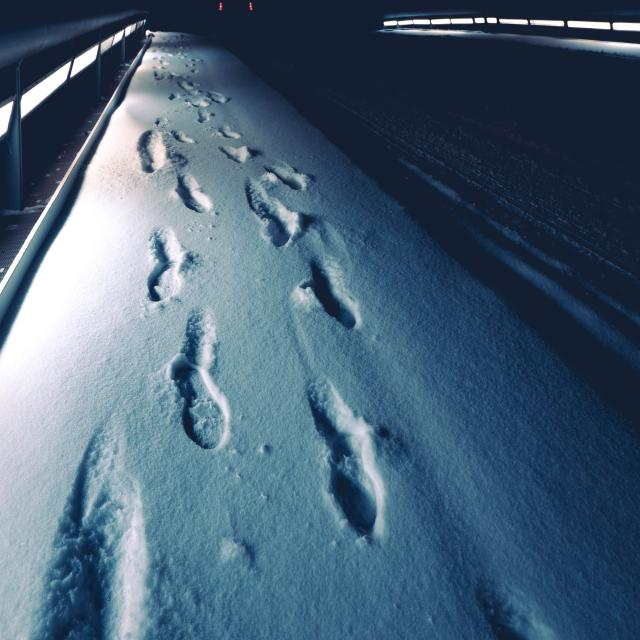human_footprint: (119, 134, 450, 546)
